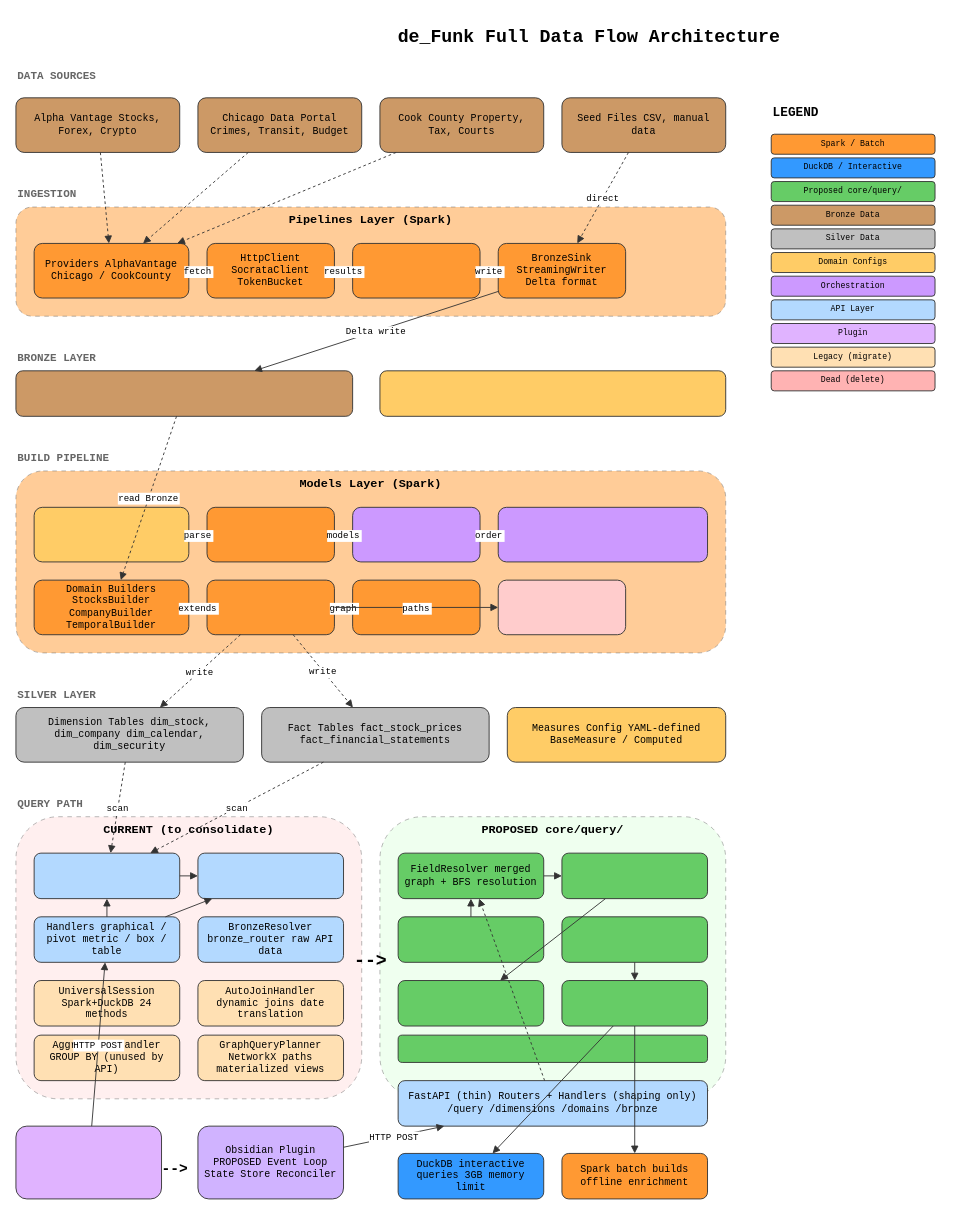
Image size: 969x1215. Some labels were removed from this diagram. Each missing label, with the centre of its shape:
Aggregator centralized GROUP BY Malloy-style measures: point 634,939
BaseModel 20 methods build() / write(): point 270,607
BronzeResolver (unchanged): point 552,1048
Delta Lake Bronze Tables /shared/storage/bronze/{provider}/{endpoint}/: point 184,393
DependencyGraph topological sort build ordering: point 416,534
Domain Configs domains/models/ YAML frontmatter: point 111,534
DomainConfigLoader V4 multi-file discovery: point 270,534
Endpoint Markdown Configs domains/Data Sources/Endpoints/*.md: point 552,393
FieldResolver static join graph BFS resolution: point 106,875
FilterEngine universal dates cross-domain validation: point 470,939
GraphBuilder edge resolution join validation: point 416,607
IngestorEngine BatchProgress CircuitBreaker: point 416,270
JoinPlanner BFS + mat views dynamic at query time: point 634,875
Obsidian Plugin CURRENT filter-bus fire-everything 30 queries/change: point 88,1162
QueryEngine DuckDB only delta_scan cache: point 270,875
Scheduler daily_price_ingestion daily_silver_rebuild weekly_forecasts: point 602,534
Session backend-agnostic DuckDB or Spark: point 634,1003
StorageRouter path resolution --> moves to core/: point 561,607
StorageRouter path resolution bronze + silver: point 470,1003
